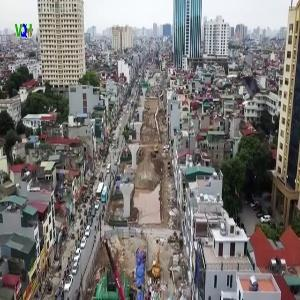drone: (228, 65, 272, 109)
